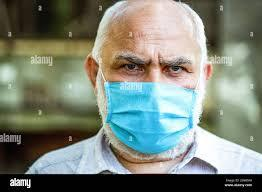mask: (103, 75, 199, 155)
